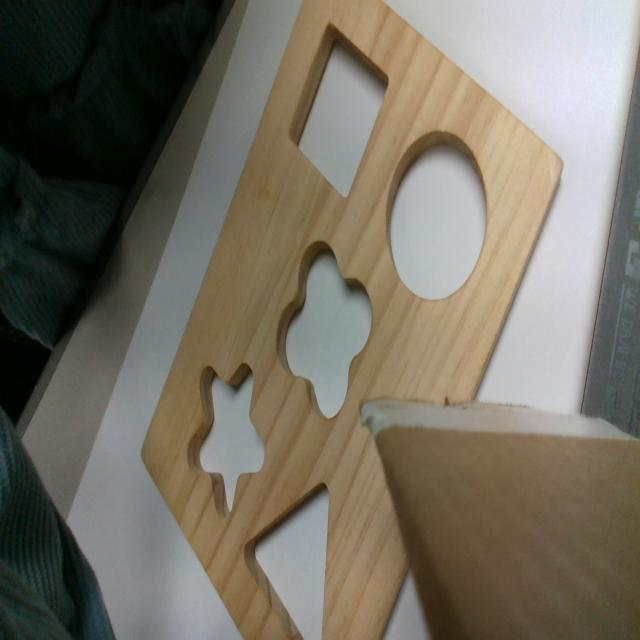circle: (387, 135, 487, 303)
flower: (276, 240, 374, 418)
square: (285, 19, 390, 202)
star: (186, 360, 265, 521)
triangle: (242, 480, 332, 637)
